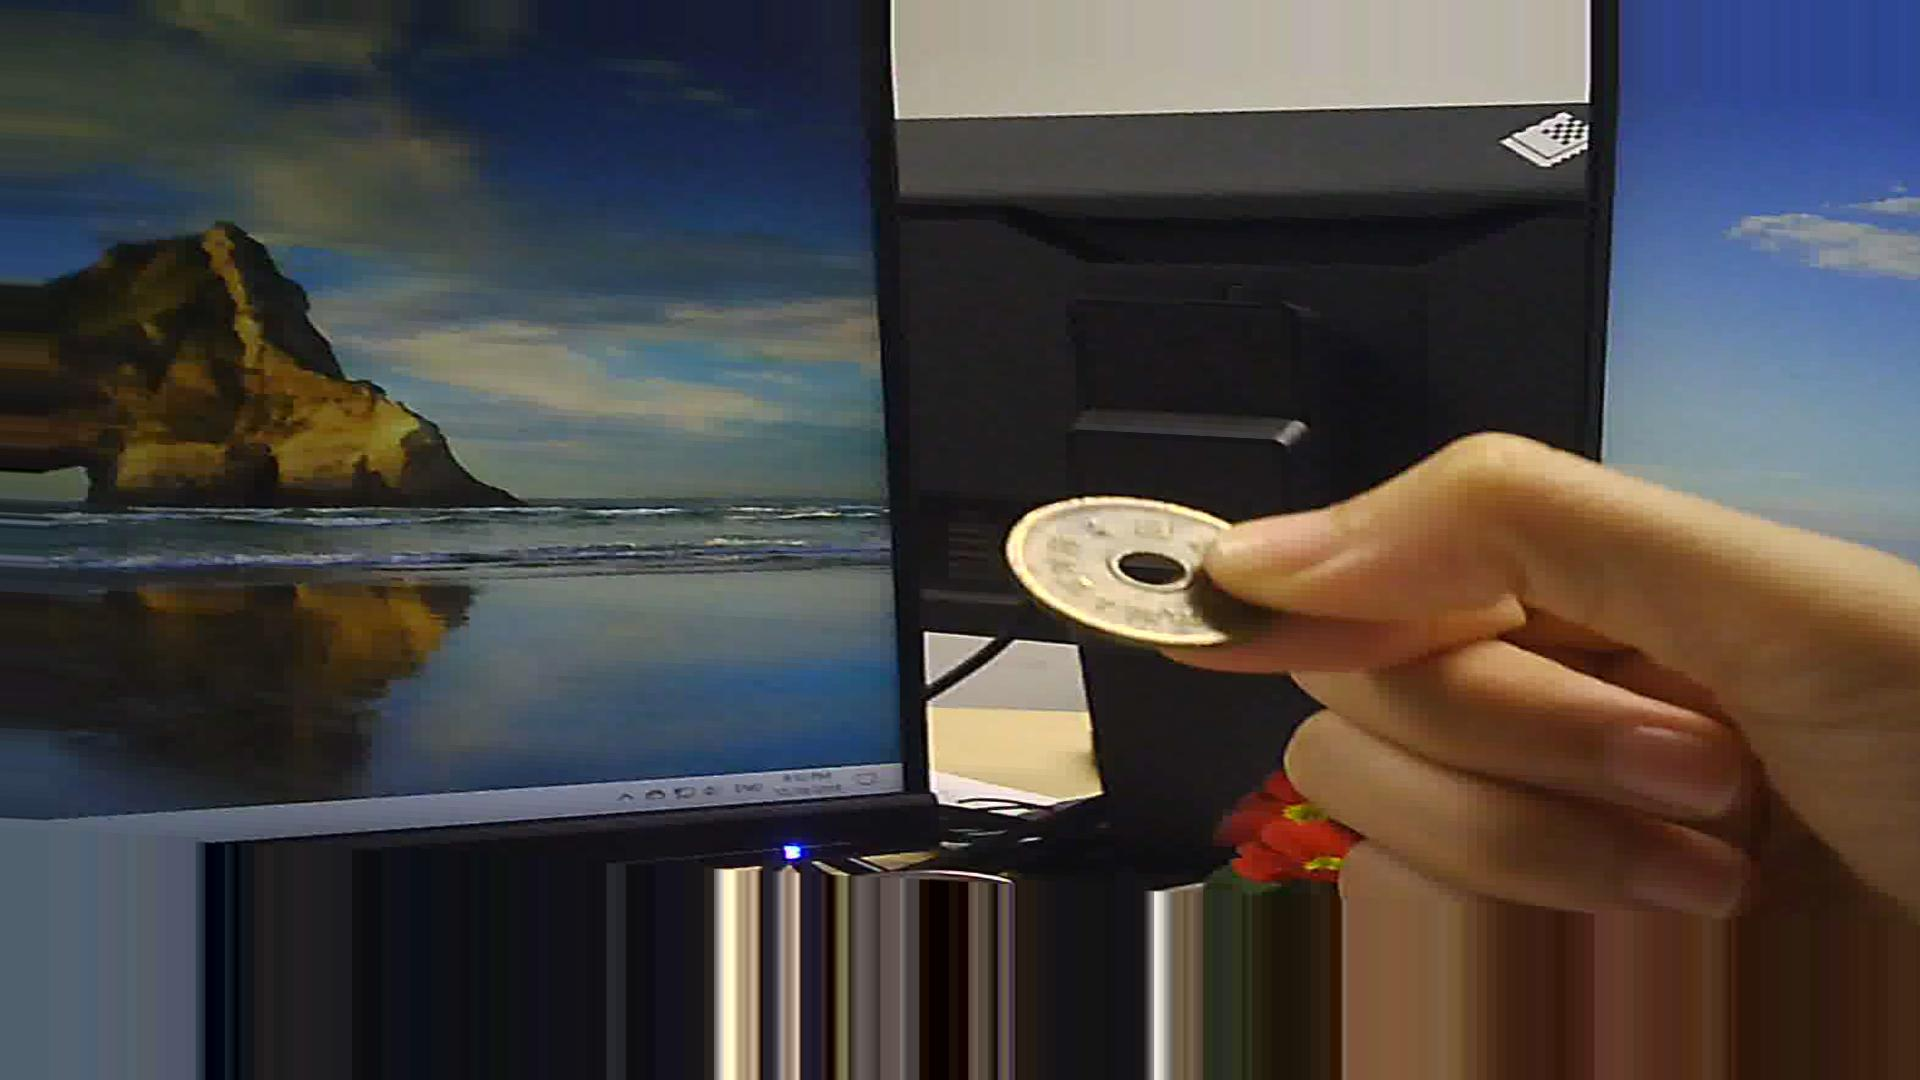5 Yen: (994, 477, 1273, 657)
